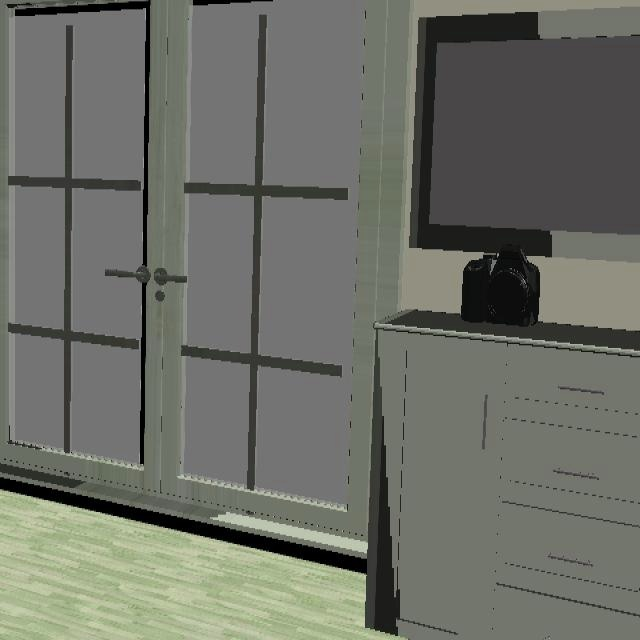cabinet: (374, 311, 640, 640)
